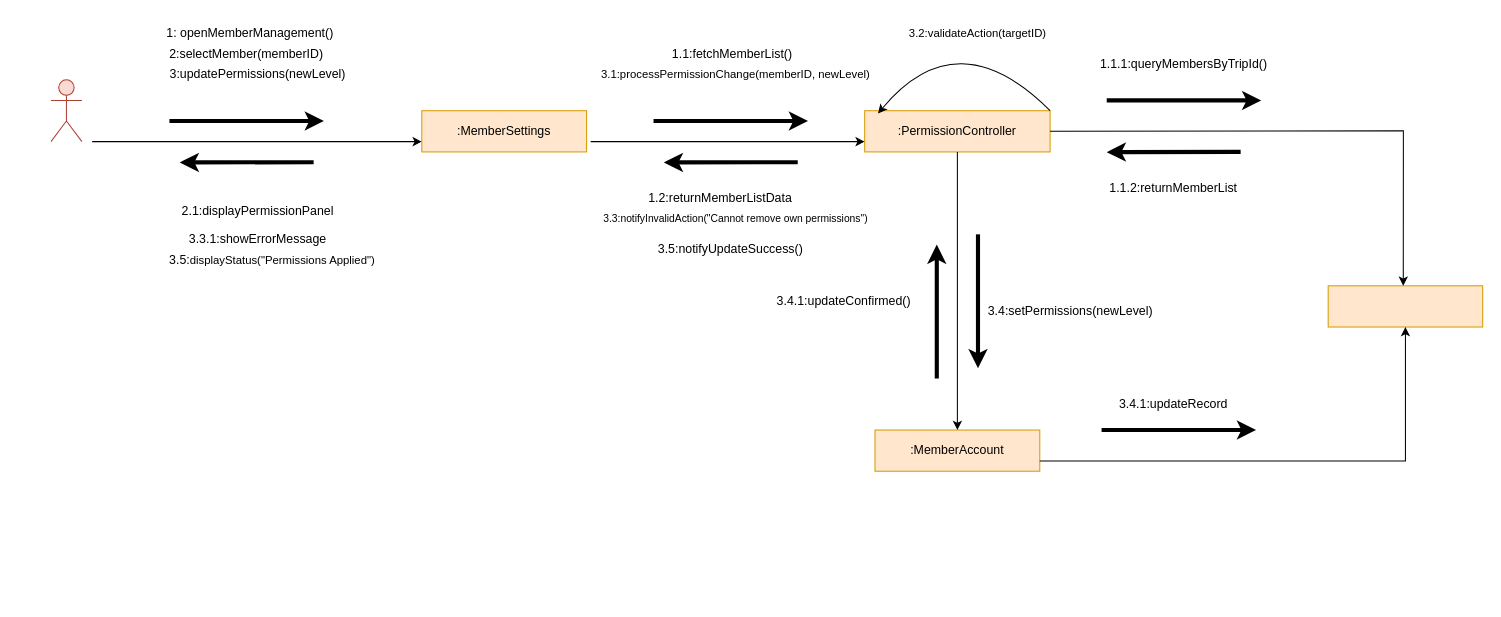
The diagram is 1501 pixels wide and 617 high, and some of its shapes have lost their labels. The centre of each missing label's shape, as x and y in pixels:
":Database" belongs at [1405,306].
"leader:TripLeader" belongs at [66,110].
